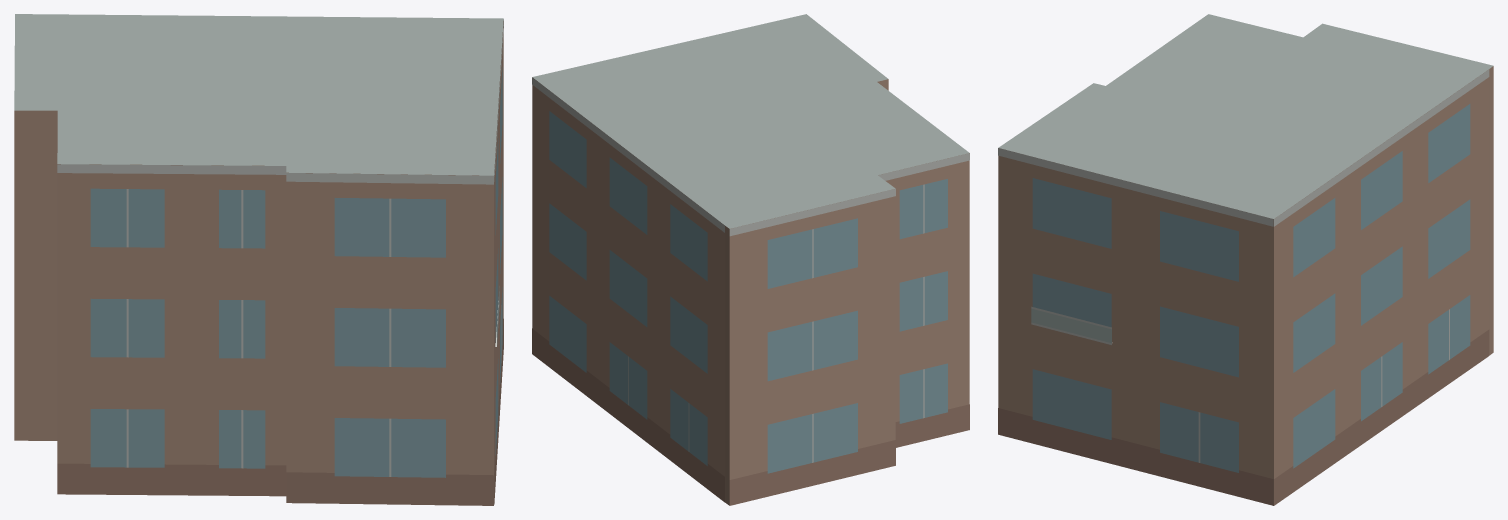
File: survey-upis-33022331.glb
3 views of the same model, side by side, from view 1: azimuth 30°, elevation 25°; view 2: azimuth 150°, elevation 25°; view 3: azimuth 270°, elevation 25° (orthographic). The views are drawn at different scales.
Parts seen in each view (by area): view 1: survey-upis-33022331.tmp; view 2: survey-upis-33022331.tmp; view 3: survey-upis-33022331.tmp.
Boxes of the visible parts, bbox=[...] form: survey-upis-33022331.tmp: bbox=[14, 14, 503, 505]; survey-upis-33022331.tmp: bbox=[532, 14, 969, 505]; survey-upis-33022331.tmp: bbox=[998, 14, 1493, 505].
Size of the model in its own units: 13.81 by 9 by 14.1.
